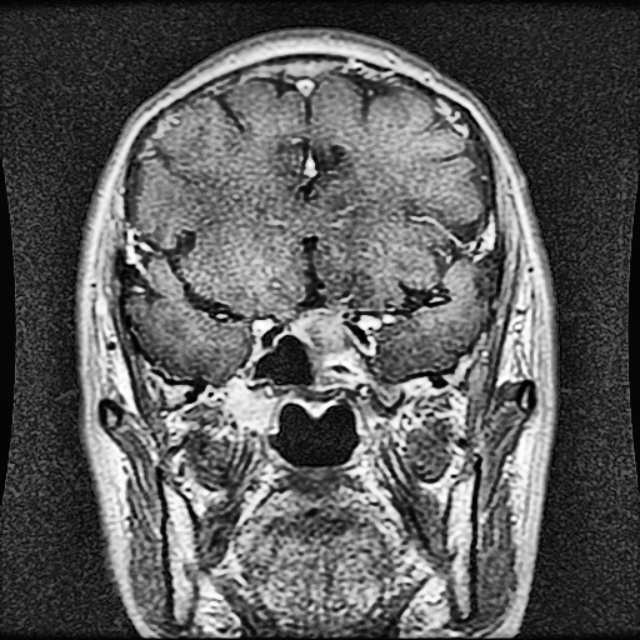Pituitary: (290, 307, 350, 359)
